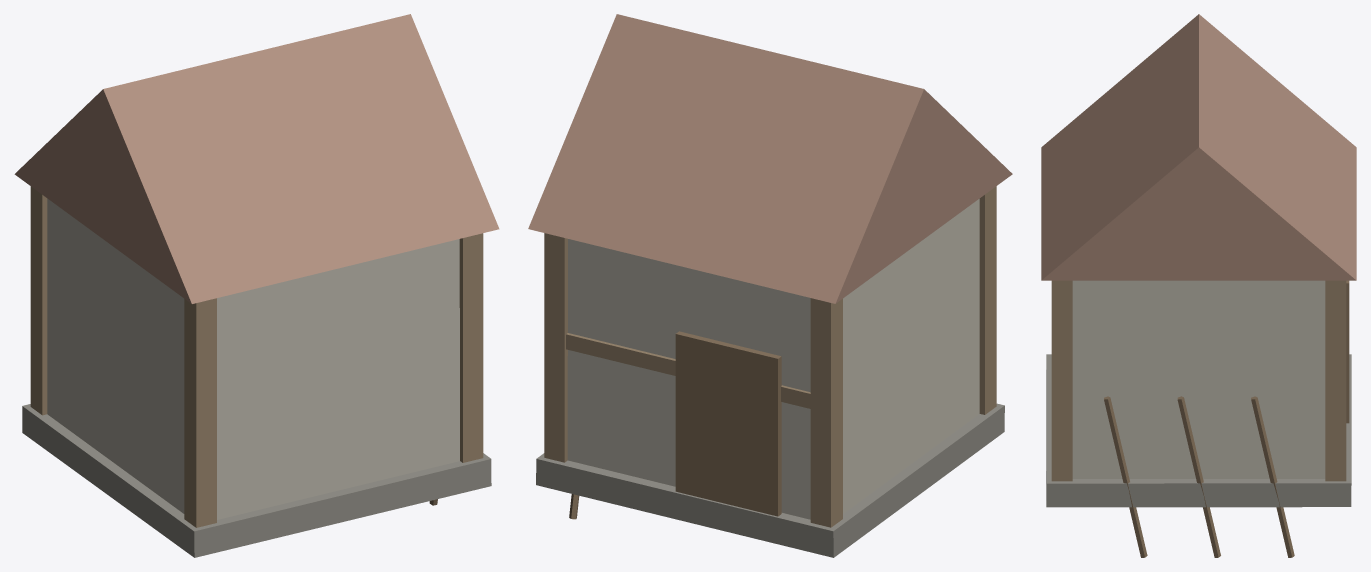
Rendered from bowyer_workshop.glb.
3 views of the same model, side by side, from view 1: azimuth 30°, elevation 25°; view 2: azimuth 150°, elevation 25°; view 3: azimuth 270°, elevation 25° (orthographic). The views are drawn at different scales.
Visible parts, largest first — view 1: bowyer_workshop; view 2: bowyer_workshop; view 3: bowyer_workshop.
Part boxes in pixels (x1=…): bowyer_workshop: x1=14, y1=14, x2=499, y2=557; bowyer_workshop: x1=528, y1=14, x2=1012, y2=557; bowyer_workshop: x1=1041, y1=14, x2=1356, y2=557.
Bounding box in the file's own units: 3 × 4.34 × 3.
